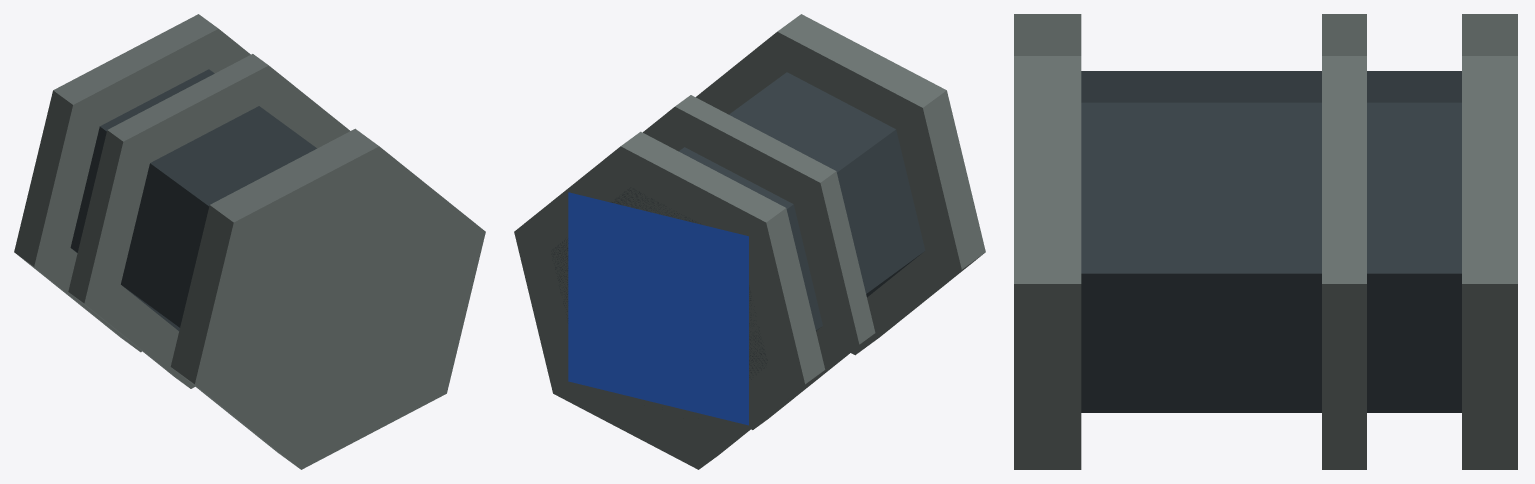
3 views of the same model, side by side, from view 1: azimuth 30°, elevation 25°; view 2: azimuth 150°, elevation 25°; view 3: azimuth 270°, elevation 25° (orthographic). The views are drawn at different scales.
Parts seen in each view (by area): view 1: mount; view 2: mount; view 3: mount.
Boxes of the visible parts, x1,y1,x2,y2 form: mount: (14,14,485,469); mount: (514,14,985,469); mount: (1014,14,1517,469).
Bounding box in the file's own units: 5.02 × 5.02 × 5.43.
